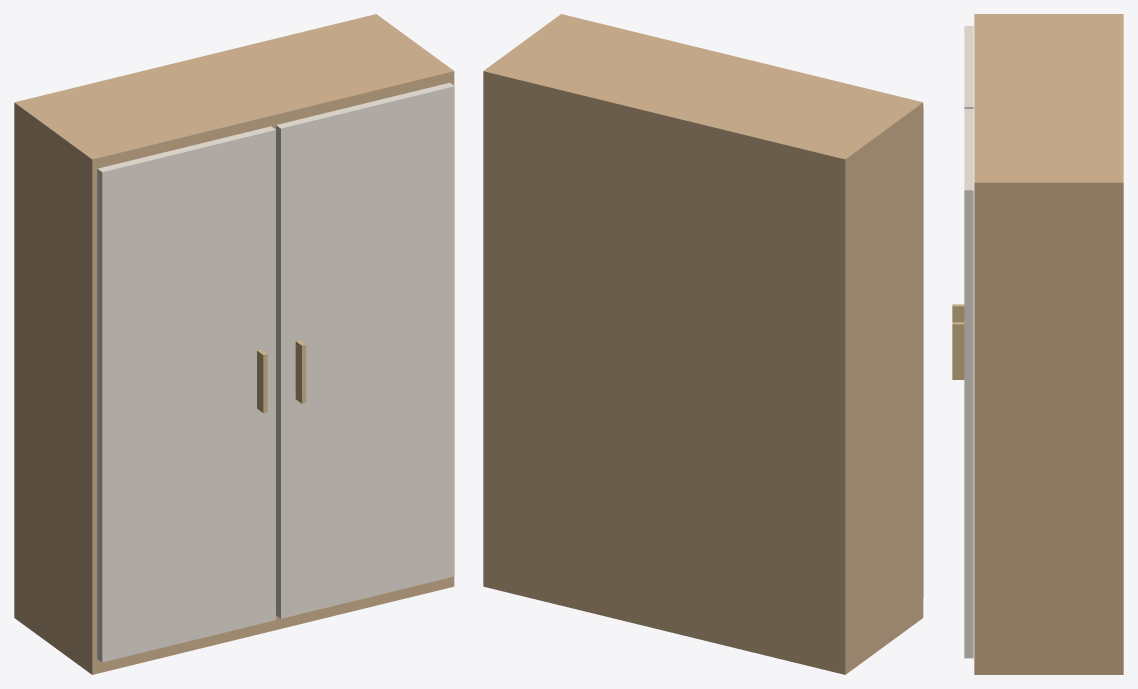
Rendered from wardrobe.glb.
The picture shows the model from 3 angles, left to right: view 1: azimuth 30°, elevation 25°; view 2: azimuth 150°, elevation 25°; view 3: azimuth 270°, elevation 25°; orthographic projection. The views are drawn at different scales.
Visible parts, largest first — view 1: part_1, part_2, part_0, part_4, part_3; view 2: part_0; view 3: part_0, part_2, part_1, part_4.
Part boxes in pixels (left/top/right/bottom): part_1: left=97, top=126, right=275, bottom=662; part_2: left=276, top=82, right=454, bottom=618; part_0: left=14, top=14, right=454, bottom=674; part_4: left=295, top=340, right=306, bottom=403; part_3: left=257, top=349, right=267, bottom=412; part_0: left=483, top=14, right=923, bottom=674; part_0: left=974, top=14, right=1123, bottom=674; part_2: left=964, top=109, right=973, bottom=658; part_1: left=964, top=26, right=973, bottom=108; part_4: left=952, top=322, right=964, bottom=379.
Bounding box in the file's own units: 1.5 × 2.06 × 0.6425.
